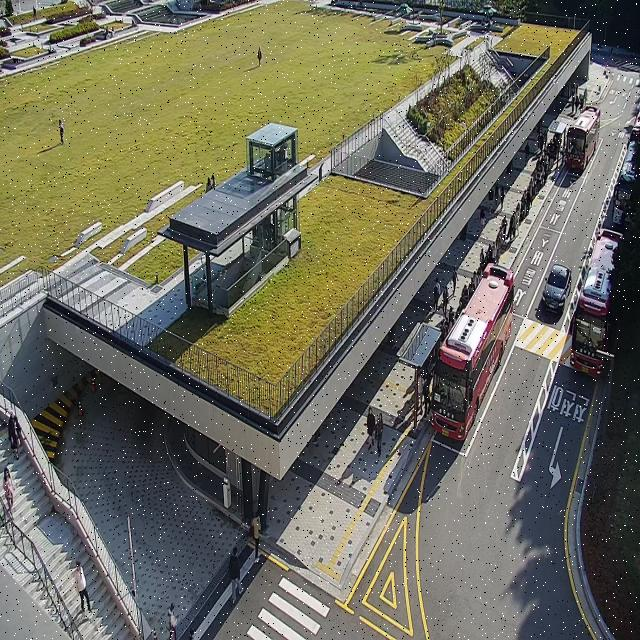queue: (415, 128, 561, 428)
